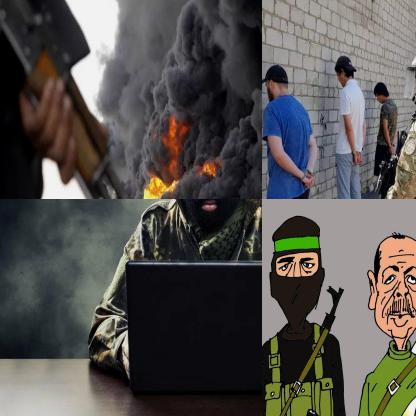rifle: (0, 0, 186, 198), (358, 130, 409, 198)
